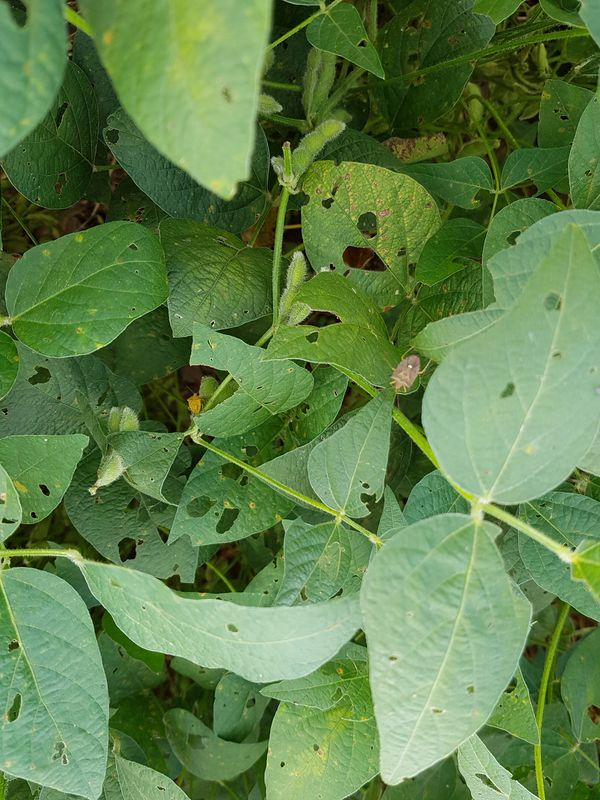Euschistus_heros_adulto: (382, 341, 435, 401)
Euschistus_heros_ninfa: (182, 389, 207, 418)
